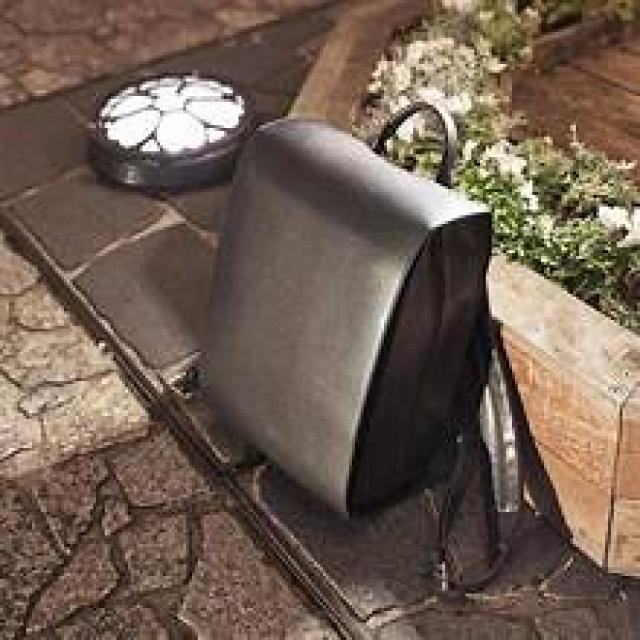backpack: (192, 97, 508, 529)
